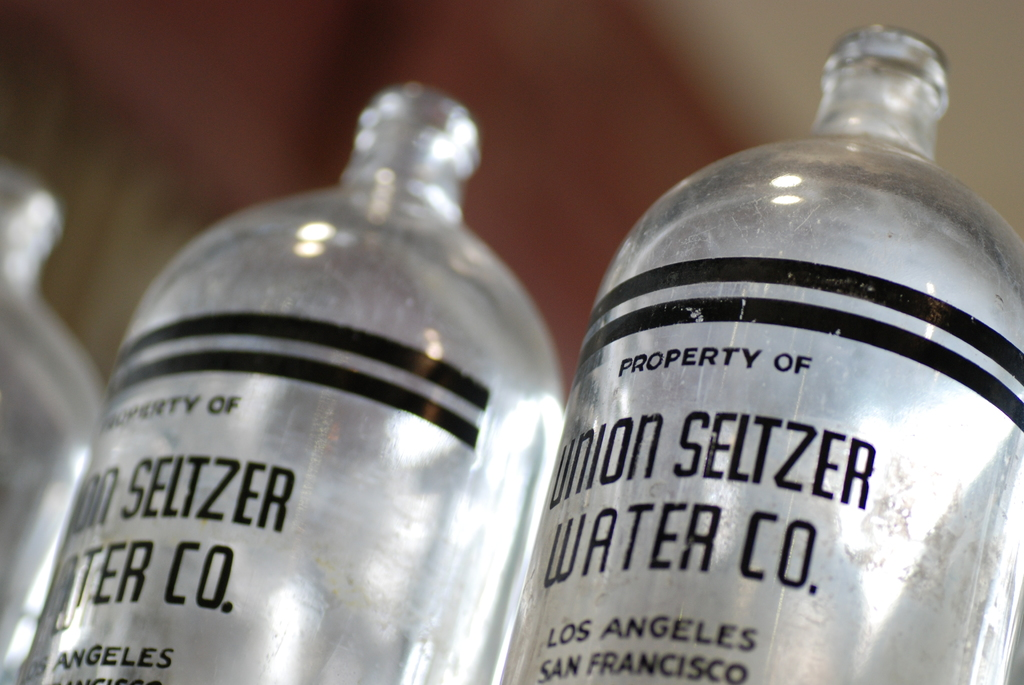can: (486, 23, 1024, 685), (15, 83, 564, 685), (0, 156, 107, 685)
